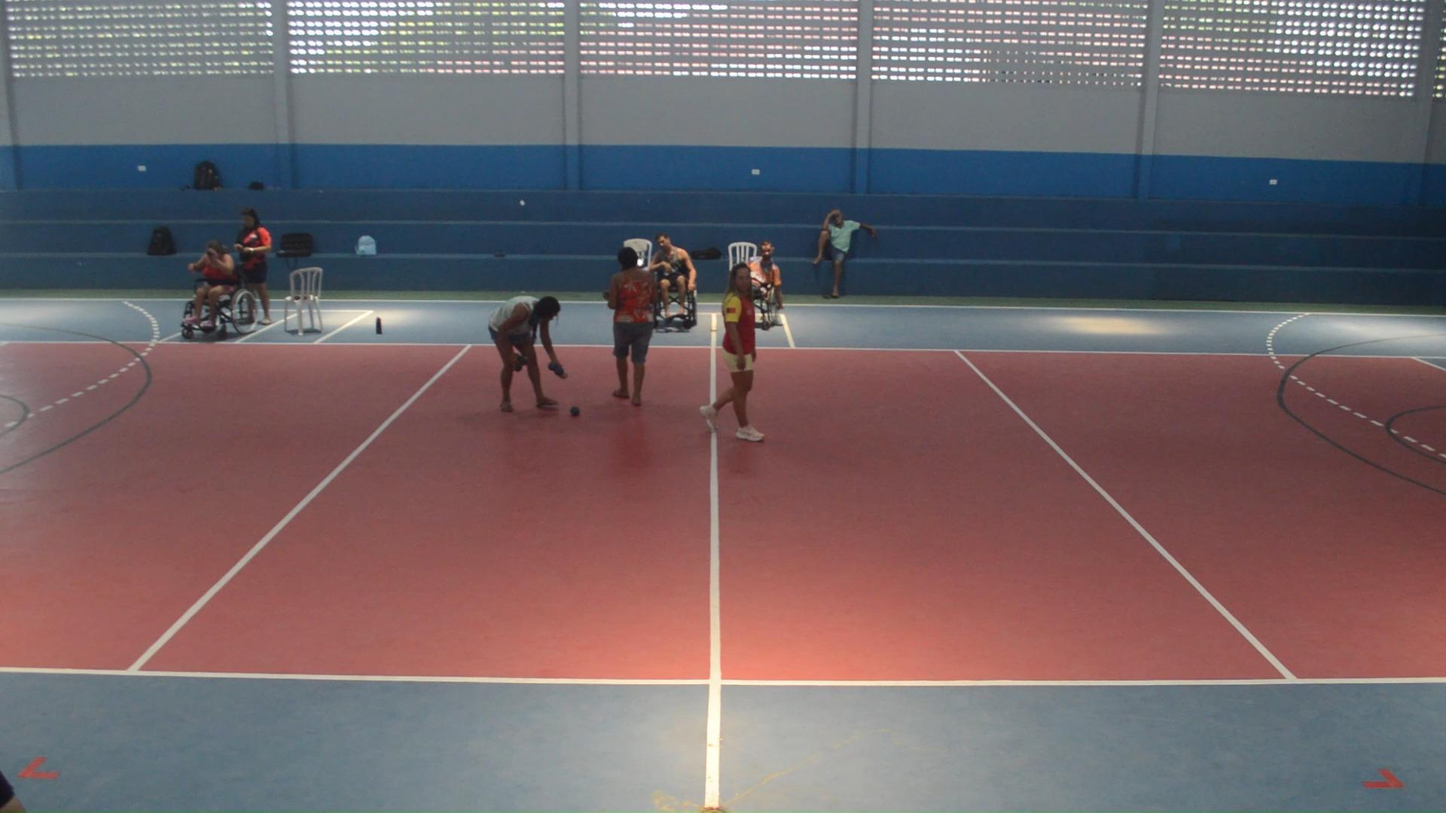blue_ball: (571, 407, 579, 416)
